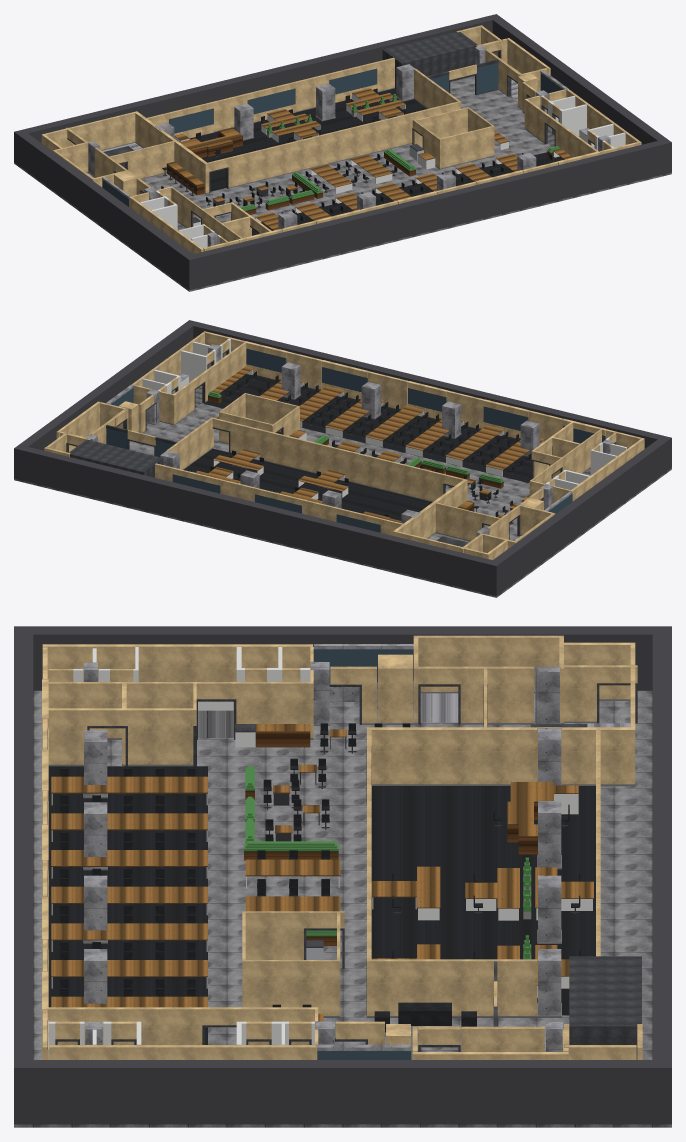
File: map_office.glb
3 renders of one model, top to bottom at view 1: azimuth 30°, elevation 25°; view 2: azimuth 150°, elevation 25°; view 3: azimuth 270°, elevation 25°, orthographic. The views are drawn at different scales.
Visible parts, largest first — view 1: map; view 2: map; view 3: map.
Boxes of the visible parts, <box> form: map: <box>14,14,671,291</box>; map: <box>14,320,671,597</box>; map: <box>14,626,671,1127</box>.
Size of the model in its own units: 54 by 3.4 by 34.
19 materials, 11 textured.
